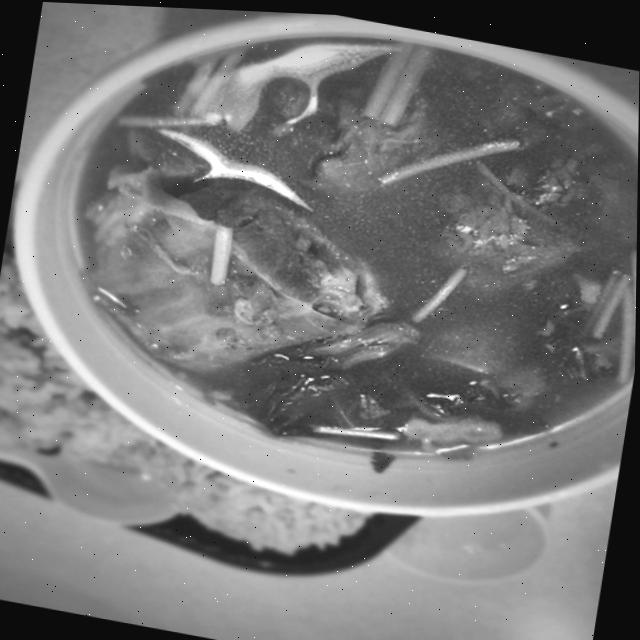汤锅炖物: (10, 1, 640, 516)
